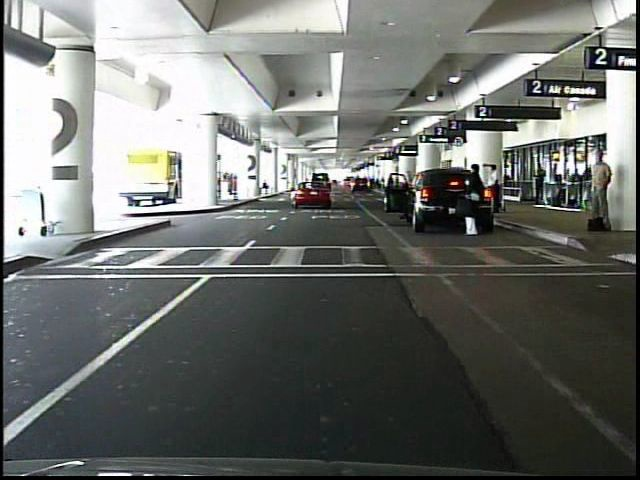person: (461, 164, 484, 239), (484, 163, 503, 215), (533, 162, 545, 203)
